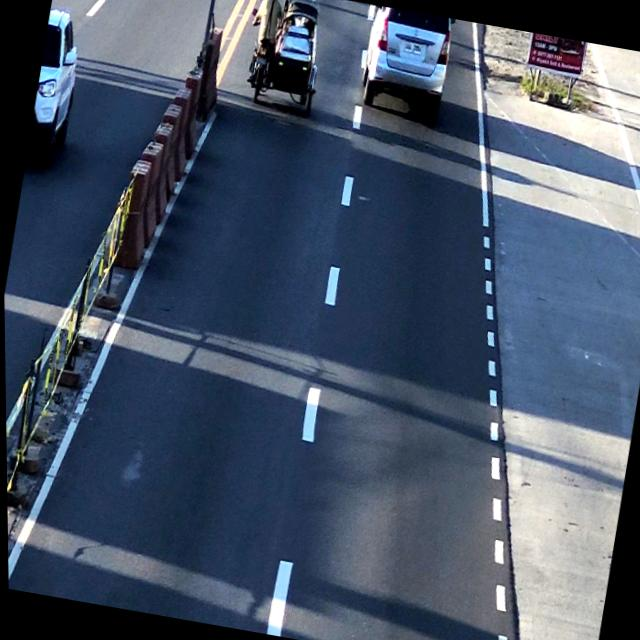Car: (354, 4, 456, 114)
License-Plate: (401, 38, 425, 55)
Tricycle: (238, 0, 335, 116)
